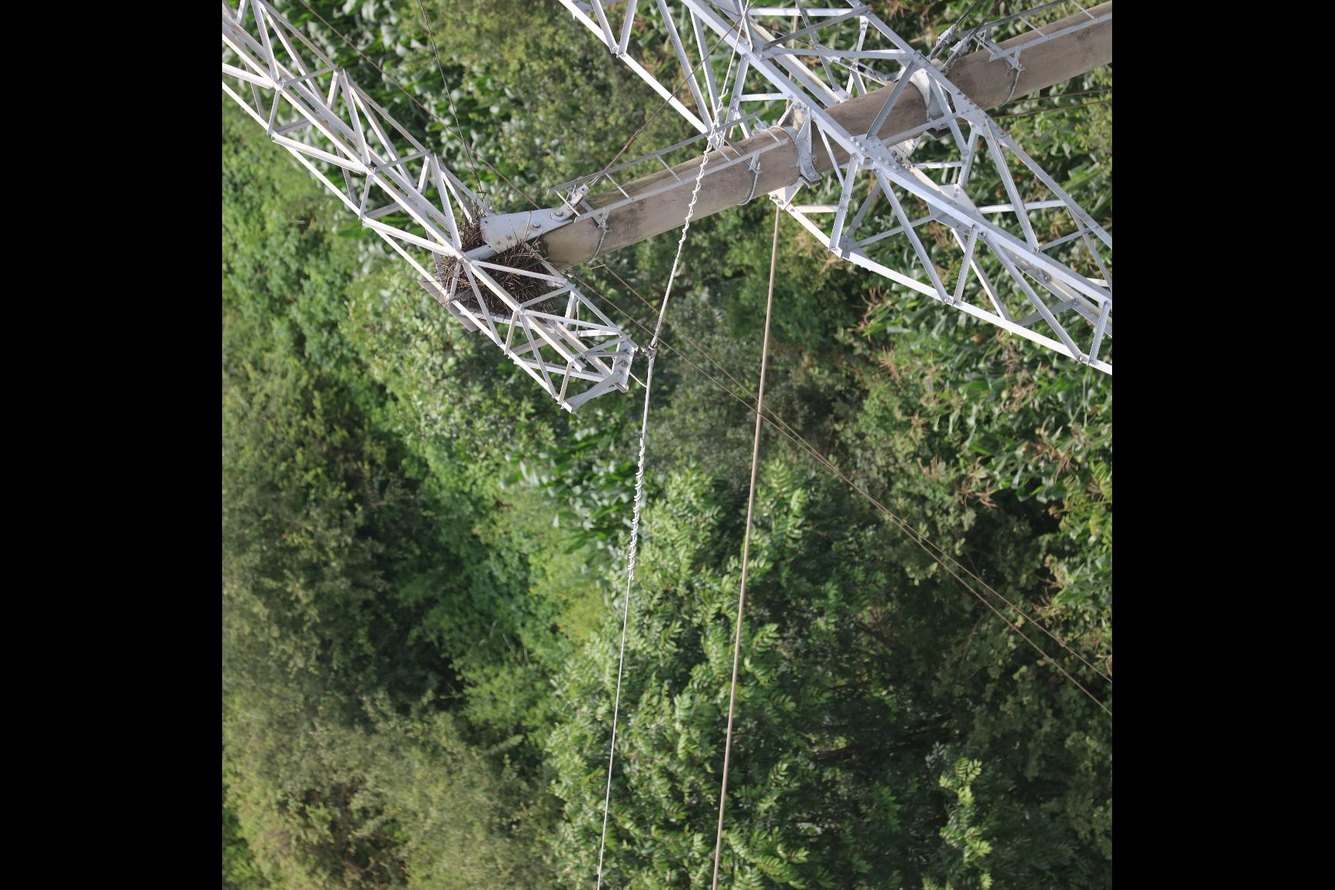nest: (433, 214, 556, 319)
